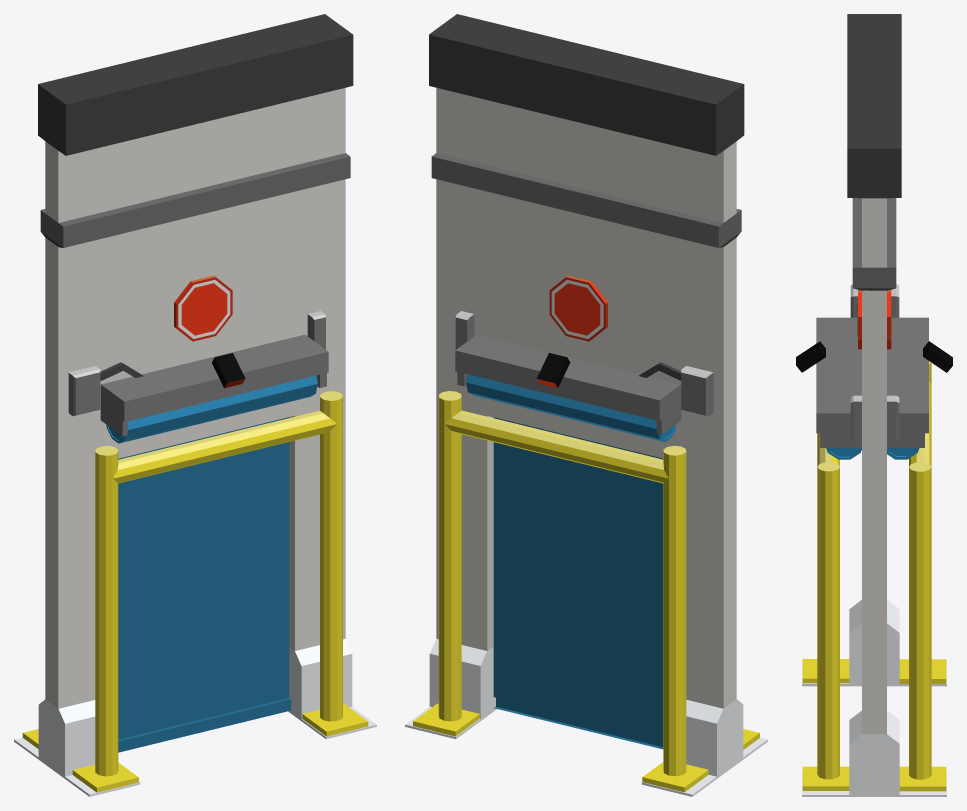
The model's file is Rollup-Door.fbx.
The picture shows the model from 3 angles, left to right: view 1: azimuth 30°, elevation 25°; view 2: azimuth 150°, elevation 25°; view 3: azimuth 270°, elevation 25°; orthographic projection. The views are drawn at different scales.
Parts seen in each view (by area): view 1: RytechDoorFrame, DoorPanel, IR2; view 2: RytechDoorFrame, DoorPanel, IR1; view 3: RytechDoorFrame, IR2, IR1.
Part boxes in pixels (x1=…): RytechDoorFrame: x1=14, y1=14, x2=376, y2=796; DoorPanel: x1=118, y1=417, x2=291, y2=752; IR2: x1=211, y1=353, x2=245, y2=388; RytechDoorFrame: x1=405, y1=14, x2=767, y2=796; DoorPanel: x1=493, y1=417, x2=663, y2=749; IR1: x1=536, y1=353, x2=570, y2=388; RytechDoorFrame: x1=802, y1=14, x2=946, y2=796; IR2: x1=796, y1=341, x2=825, y2=372; IR1: x1=923, y1=341, x2=952, y2=372.
Size of the model in its own units: 4.01 by 1.98 by 9.02.
